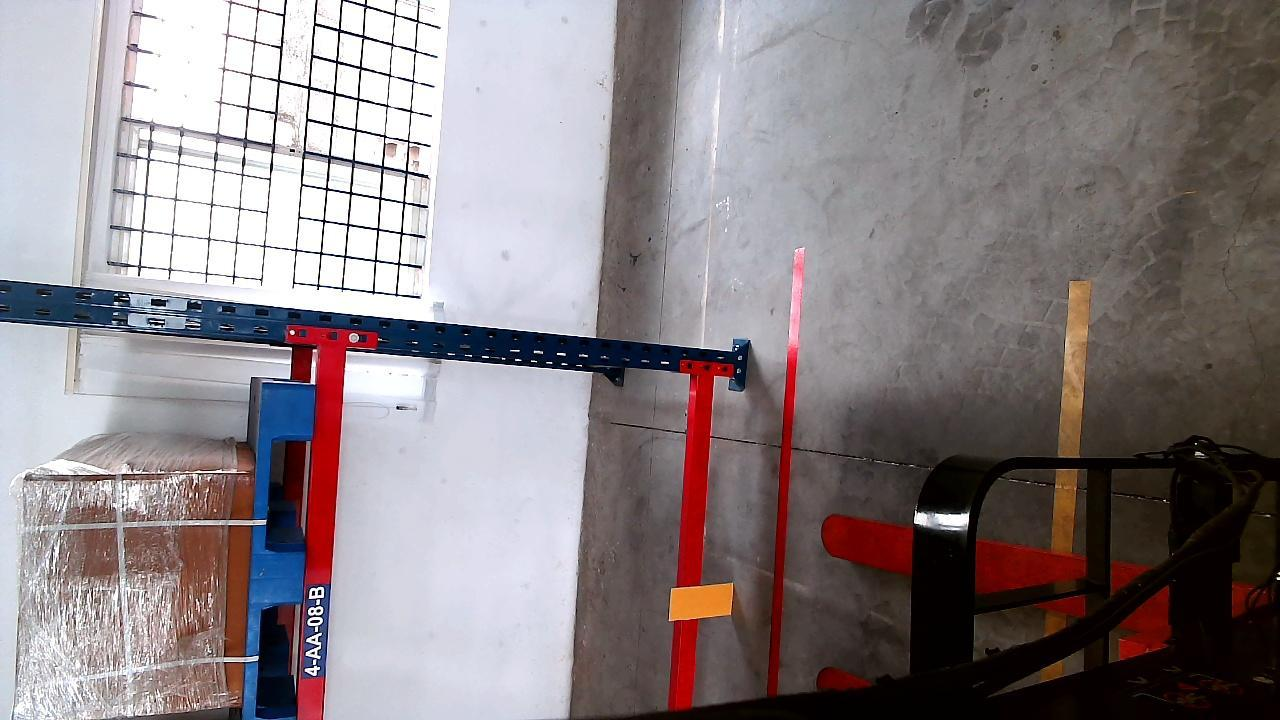red_line: (766, 248, 805, 696)
yellow_line: (1051, 281, 1092, 552)
